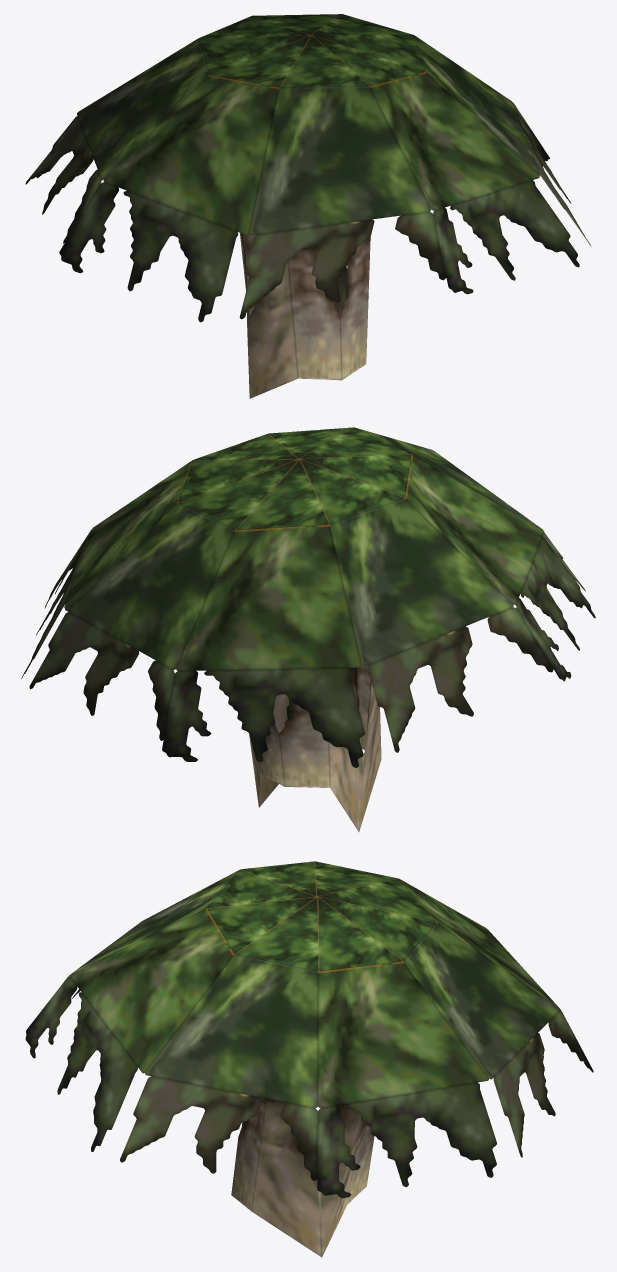
3 renders of one model, top to bottom at view 1: azimuth 30°, elevation 25°; view 2: azimuth 150°, elevation 25°; view 3: azimuth 270°, elevation 25°, orthographic. The views are drawn at different scales.
Parts seen in each view (by area): view 1: T1L7M007_3; view 2: T1L7M007_3; view 3: T1L7M007_3.
Boxes of the visible parts, bbox=[...] form: T1L7M007_3: bbox=[25, 14, 591, 398]; T1L7M007_3: bbox=[21, 427, 595, 831]; T1L7M007_3: bbox=[25, 861, 593, 1257].
Bounding box in the file's own units: 0.7814 × 0.5079 × 0.7876.
